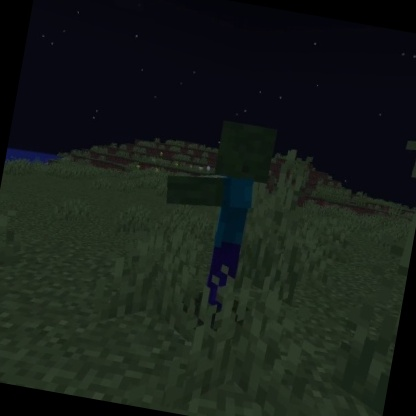zombie: (139, 105, 285, 336)
